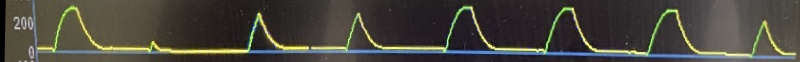normal_volume: (41, 1, 798, 61)
